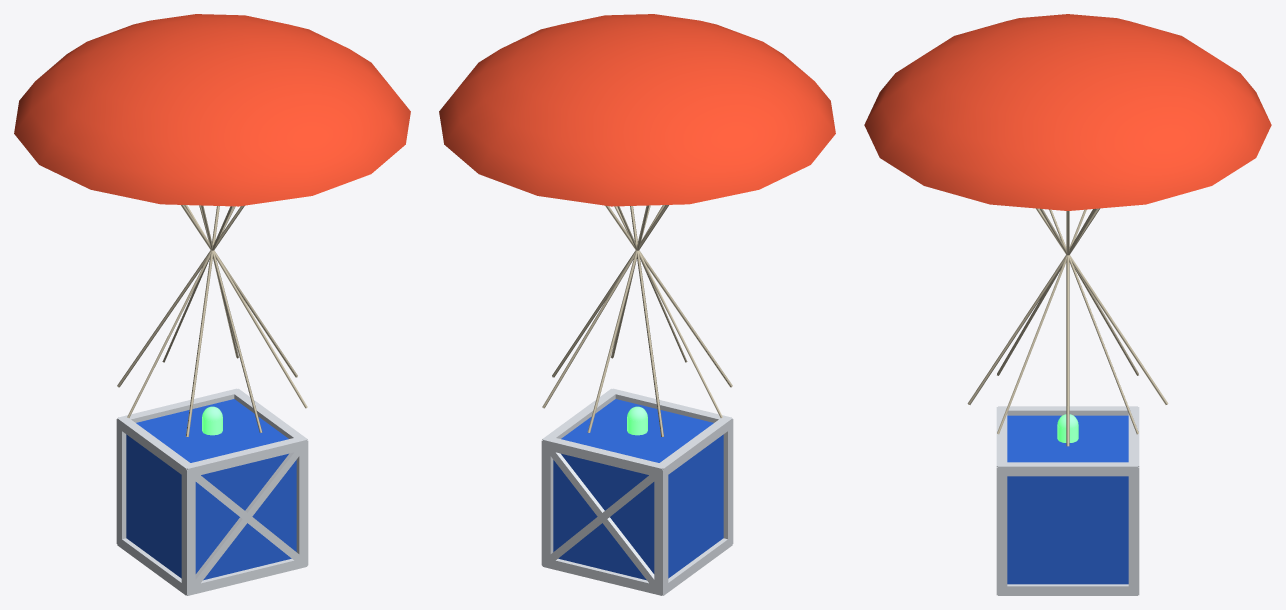
Rendered from SupplyDrop.glb.
The picture shows the model from 3 angles, left to right: view 1: azimuth 30°, elevation 25°; view 2: azimuth 150°, elevation 25°; view 3: azimuth 270°, elevation 25°; orthographic projection.
Visible parts, largest first — view 1: Canopy, CrateBody, CrateFrame, Ropes, CrateX, Beacon; view 2: Canopy, CrateBody, CrateFrame, Ropes, CrateX, Beacon; view 3: Canopy, CrateBody, CrateFrame, Ropes.
Part boxes in pixels (box(x1,y1,x2,y2)): Canopy: box(14, 14, 410, 206); CrateBody: box(126, 399, 296, 580); CrateFrame: box(116, 388, 308, 595); Ropes: box(117, 205, 307, 436); CrateX: box(193, 449, 299, 585); Beacon: box(202, 406, 222, 435); Canopy: box(439, 14, 835, 206); CrateBody: box(553, 399, 723, 580); CrateFrame: box(541, 388, 733, 595); Ropes: box(542, 205, 732, 436); CrateX: box(550, 449, 656, 586); Beacon: box(627, 406, 647, 435); Canopy: box(864, 14, 1271, 210); CrateBody: box(1007, 415, 1128, 584); CrateFrame: box(996, 406, 1139, 595); Ropes: box(967, 208, 1168, 446).
Size of the model in its own units: 3.08 by 4.34 by 3.08.
